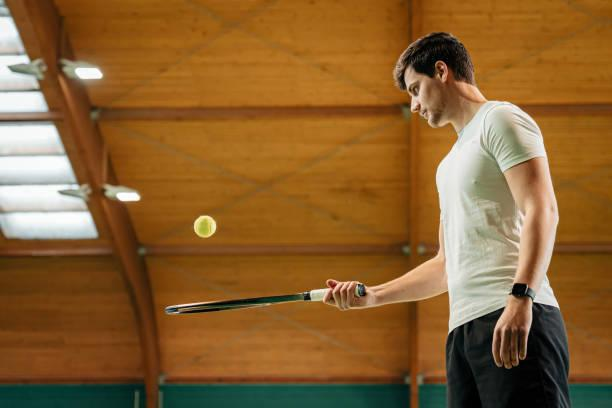ball_tennis: (194, 213, 218, 238)
